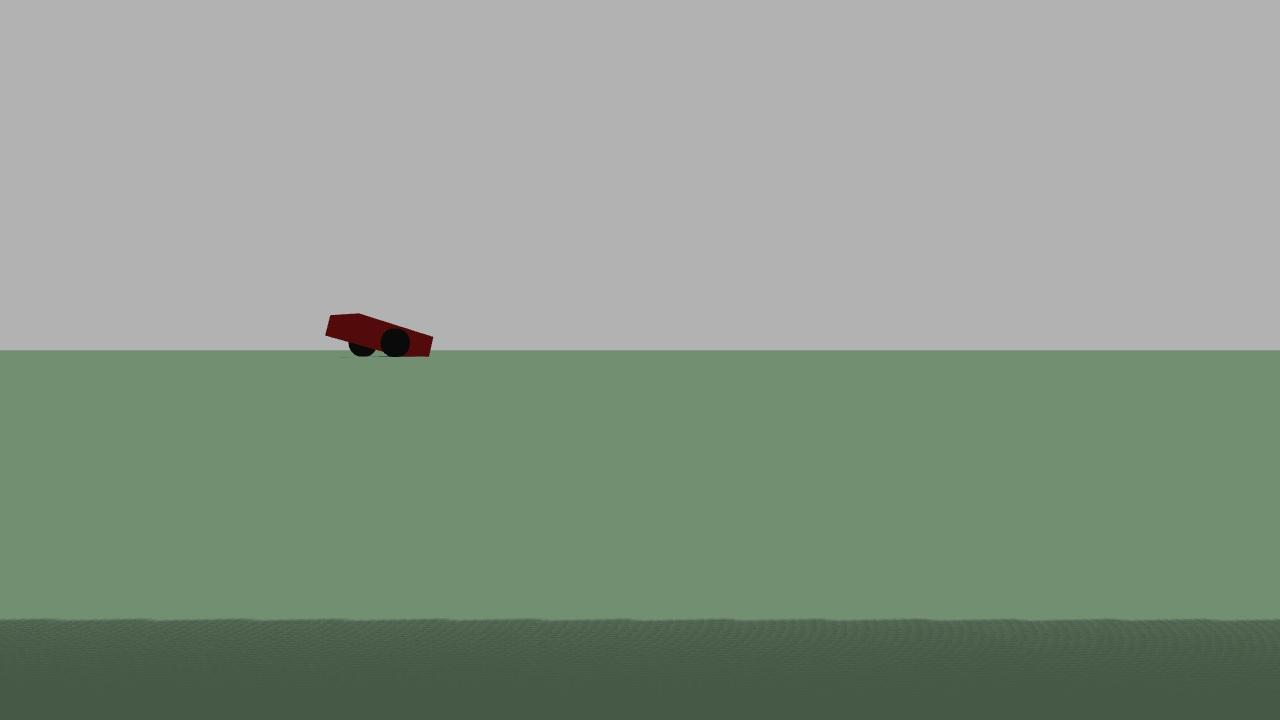ground_vehicle: (324, 296, 438, 370)
